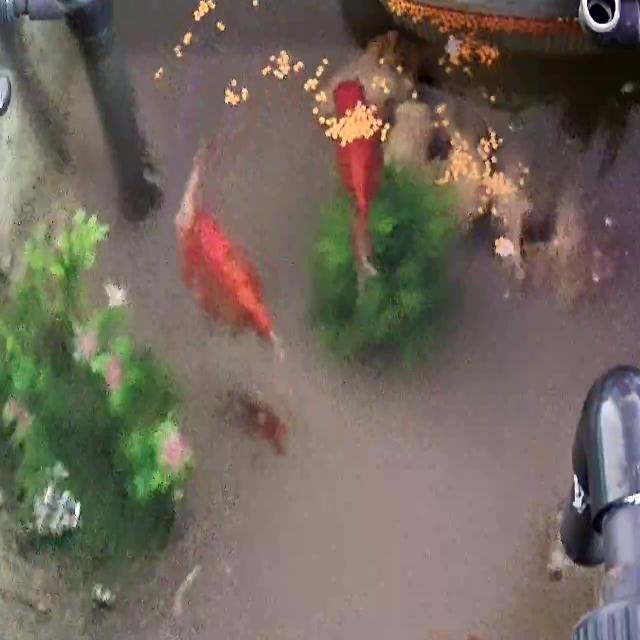fish: (173, 138, 281, 356), (329, 77, 383, 266), (218, 386, 293, 459)
